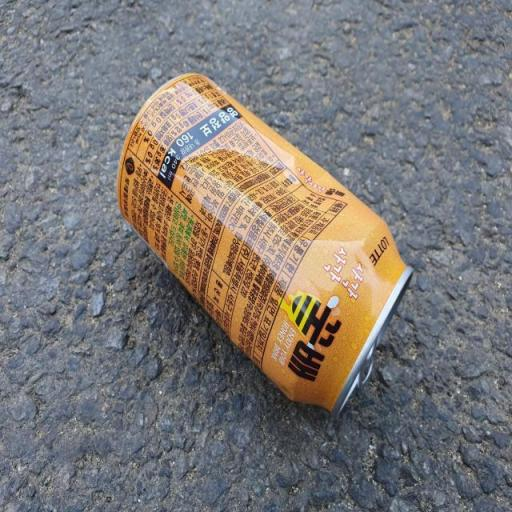metal: (118, 74, 410, 412), (275, 213, 290, 222)
